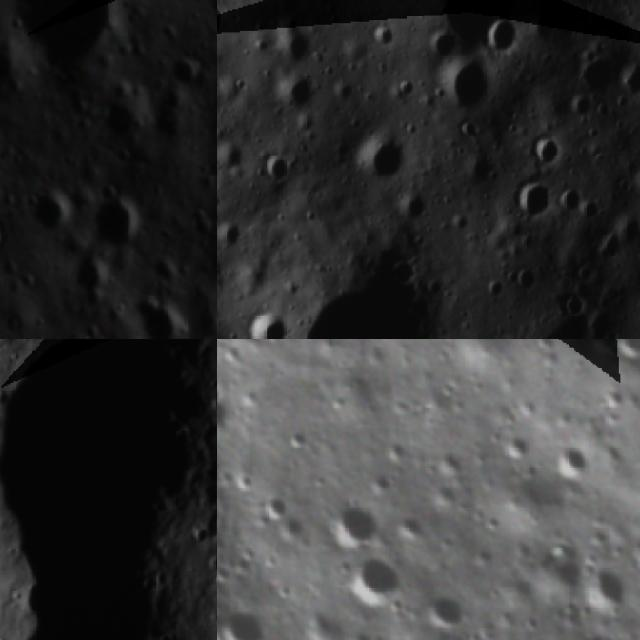crater: (285, 237, 463, 339), (0, 0, 129, 73), (341, 534, 424, 616), (312, 483, 390, 564), (433, 47, 505, 122), (570, 550, 640, 627), (540, 436, 606, 499), (344, 133, 410, 190), (217, 589, 289, 640), (564, 45, 624, 104), (17, 182, 74, 241), (419, 581, 476, 639), (126, 287, 187, 339), (86, 198, 142, 252), (74, 248, 117, 314), (277, 23, 340, 68), (504, 173, 560, 221), (238, 300, 299, 339), (481, 8, 524, 62), (252, 144, 298, 193), (270, 73, 317, 119), (192, 447, 217, 527), (526, 125, 566, 174), (600, 339, 640, 383), (102, 95, 140, 141), (398, 184, 436, 224), (168, 54, 203, 92), (554, 178, 586, 219), (567, 619, 627, 640), (217, 215, 247, 253), (217, 0, 226, 37)
